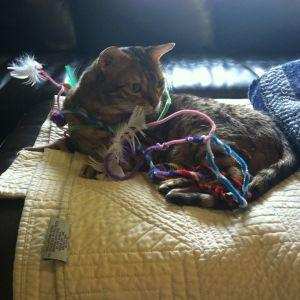bengal: (85, 36, 178, 119)
